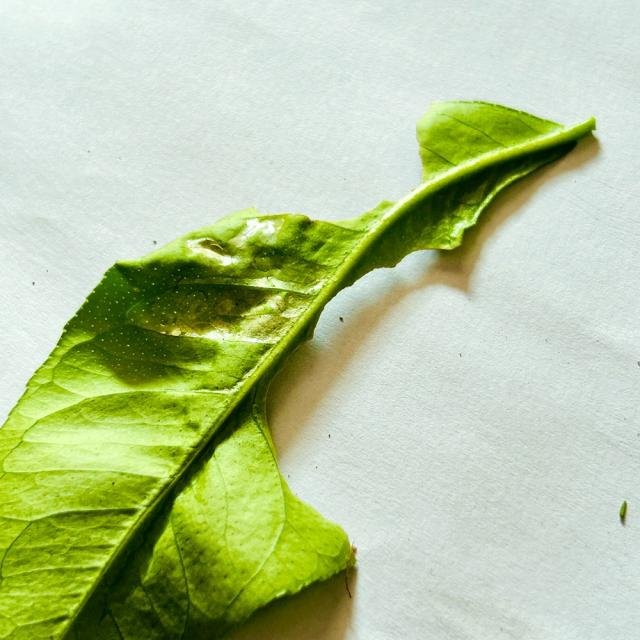Deficiency Leaf: (268, 261, 436, 518), (255, 106, 421, 220)
Lemon: (0, 102, 595, 639)
